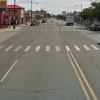Crosswalk: (4, 38, 99, 59)
